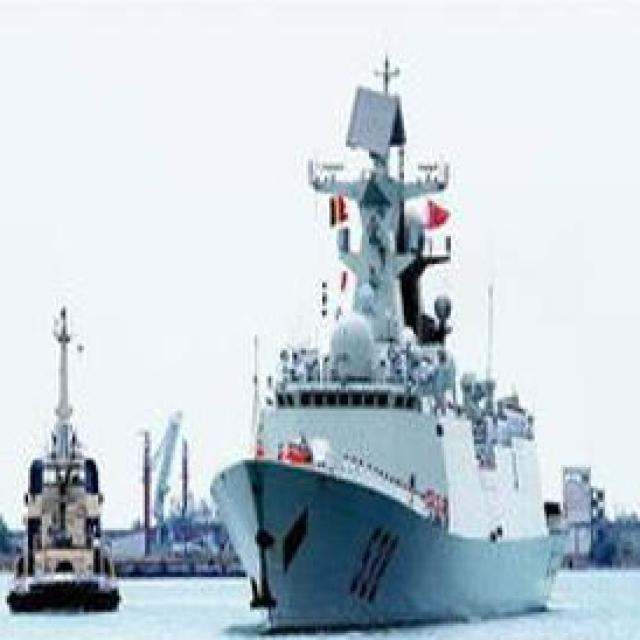navalvessels: (201, 82, 574, 638), (9, 309, 141, 617)
